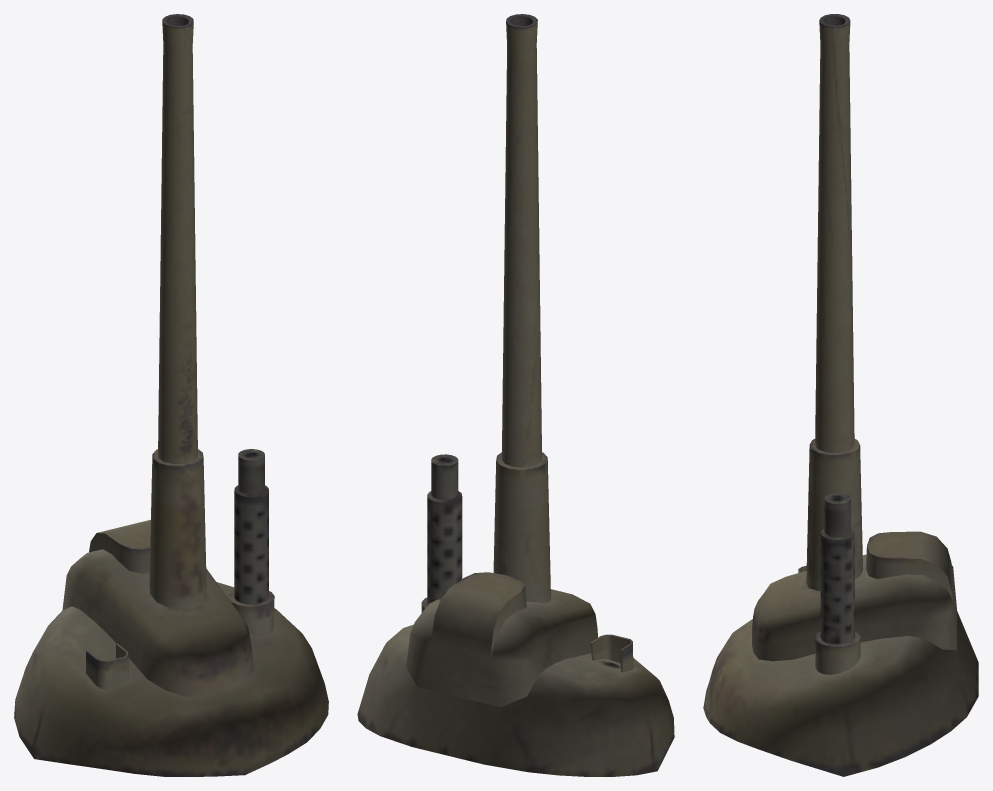
Rendered from Gun_01.glb.
3 renders of one model, left to right at view 1: azimuth 30°, elevation 25°; view 2: azimuth 150°, elevation 25°; view 3: azimuth 270°, elevation 25°, orthographic. The views are drawn at different scales.
Parts seen in each view (by area): view 1: set_0_group_0; view 2: set_0_group_0; view 3: set_0_group_0.
Part boxes in pixels (bbox=[...]): set_0_group_0: bbox=[14, 14, 328, 776]; set_0_group_0: bbox=[357, 14, 674, 776]; set_0_group_0: bbox=[703, 14, 978, 776].
Size of the model in its own units: 0.5284 by 1.29 by 0.4645.
Materials: 1 (1 with a texture image).
